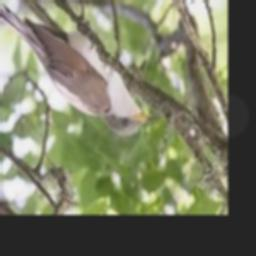Cuckoo: (0, 0, 154, 136)
